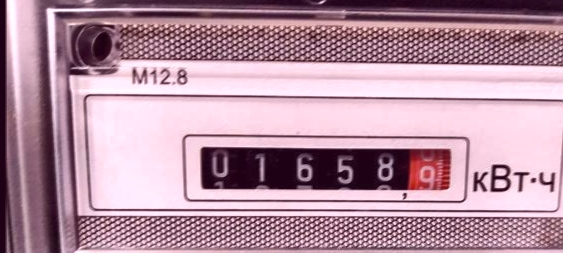0: (210, 147, 230, 177)
1: (253, 150, 270, 182)
5: (335, 152, 356, 183)
6: (295, 149, 315, 182)
8: (376, 149, 396, 181)
9: (416, 163, 437, 191)
screen: (174, 125, 474, 208)
